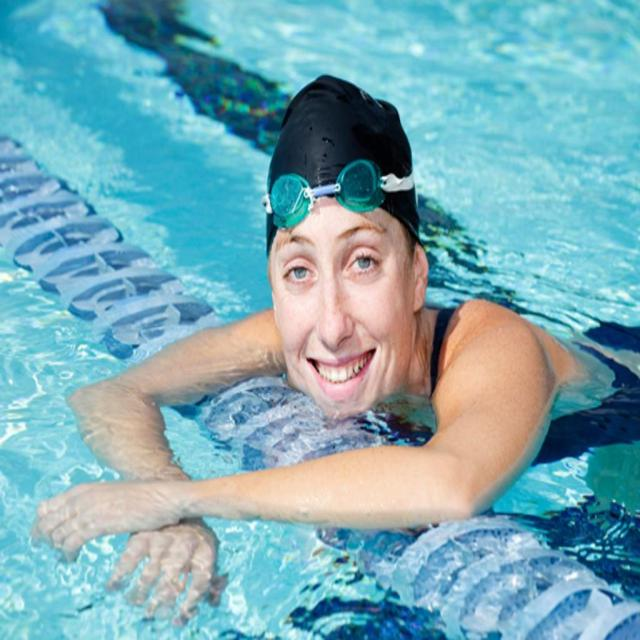Face: (257, 162, 429, 433)
